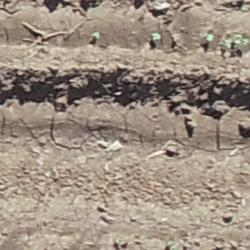cotton: (236, 38, 245, 46), (153, 32, 160, 39), (168, 240, 174, 248), (221, 42, 230, 47), (92, 31, 98, 38), (207, 35, 213, 41)
